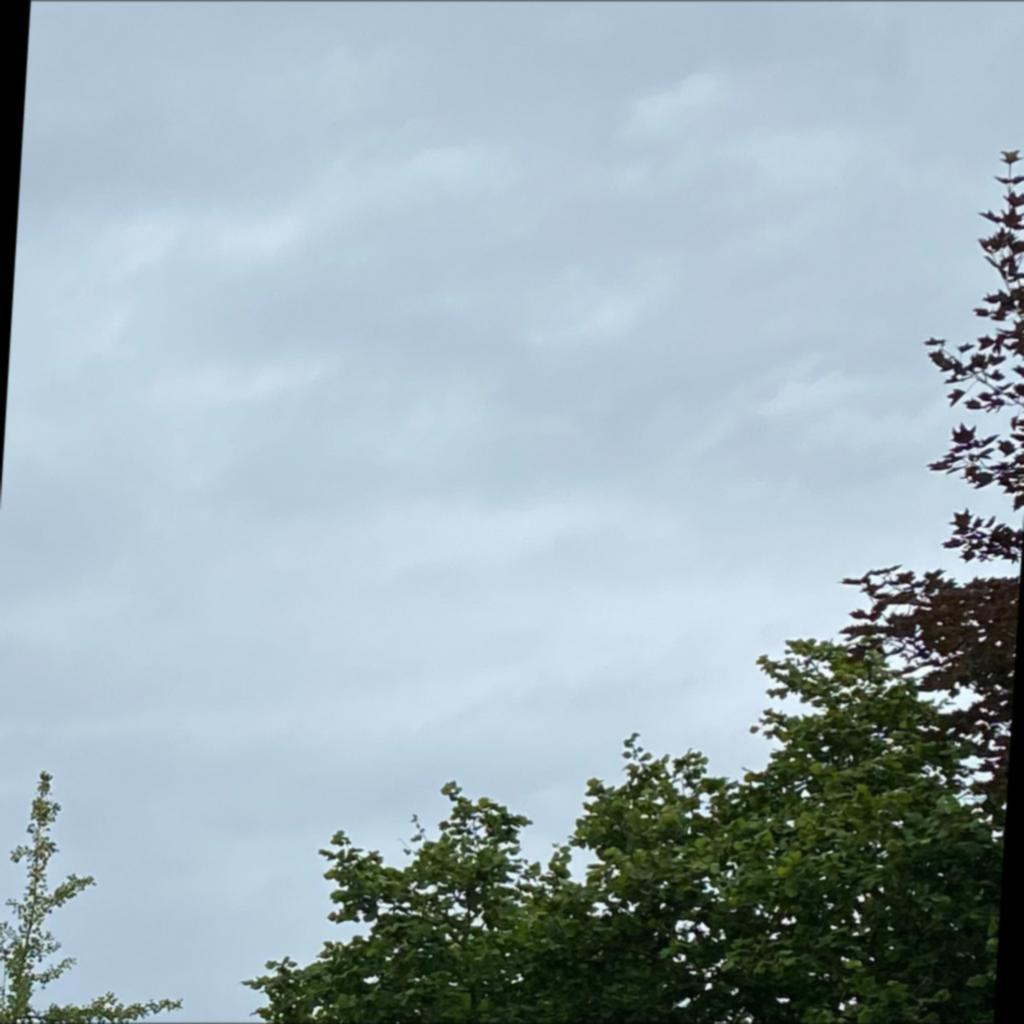tree: (241, 637, 1006, 1024), (838, 145, 1023, 1024), (1, 770, 184, 1024)
